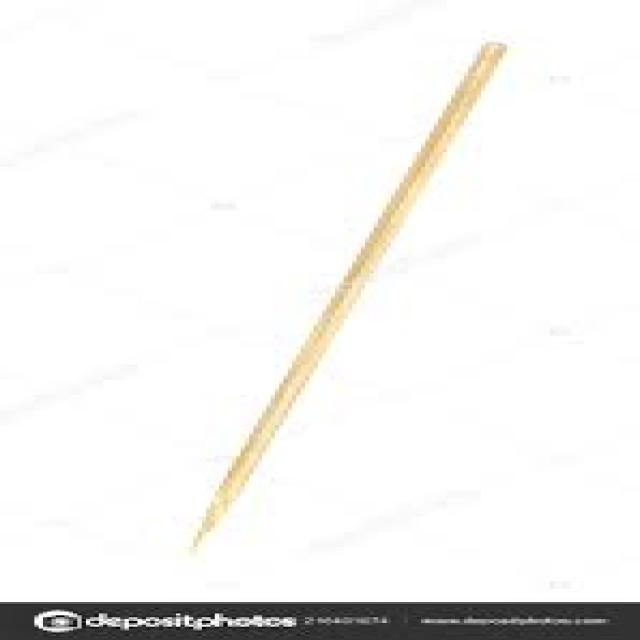stick: (195, 42, 499, 549)
